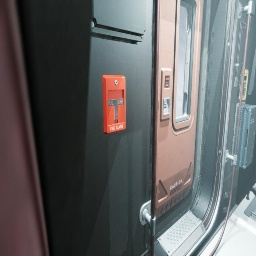EmergencyPhone ,: (237, 61, 249, 101)
FireAlarm ,: (102, 75, 126, 134)
